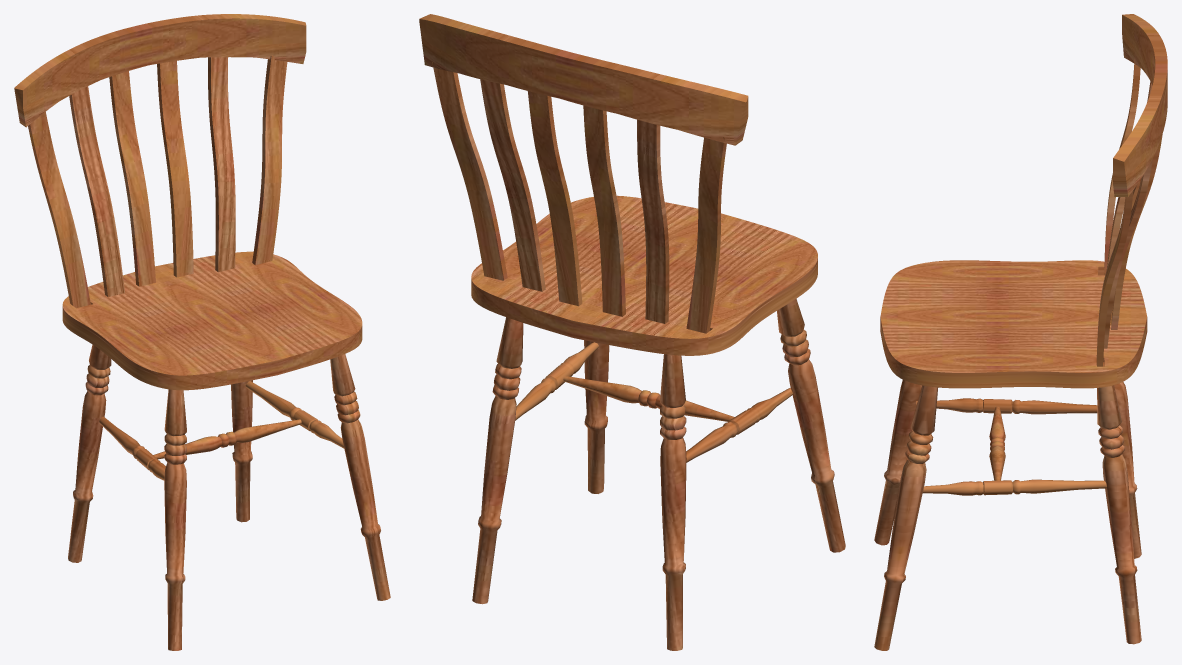
The model's file is chair.dae.
The picture shows the model from 3 angles, left to right: view 1: azimuth 30°, elevation 25°; view 2: azimuth 150°, elevation 25°; view 3: azimuth 270°, elevation 25°; orthographic projection. The views are drawn at different scales.
Parts seen in each view (by area): view 1: Model; view 2: Model; view 3: Model.
Part boxes in pixels (x1=…): Model: x1=14, y1=14, x2=390, y2=650; Model: x1=419, y1=14, x2=845, y2=650; Model: x1=874, y1=14, x2=1167, y2=650.
Size of the model in its own units: 0.5886 by 0.4974 by 0.9884.
Materials: 1 (1 with a texture image).
